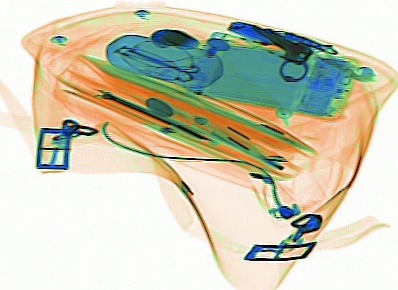lighter: (206, 26, 285, 58)
